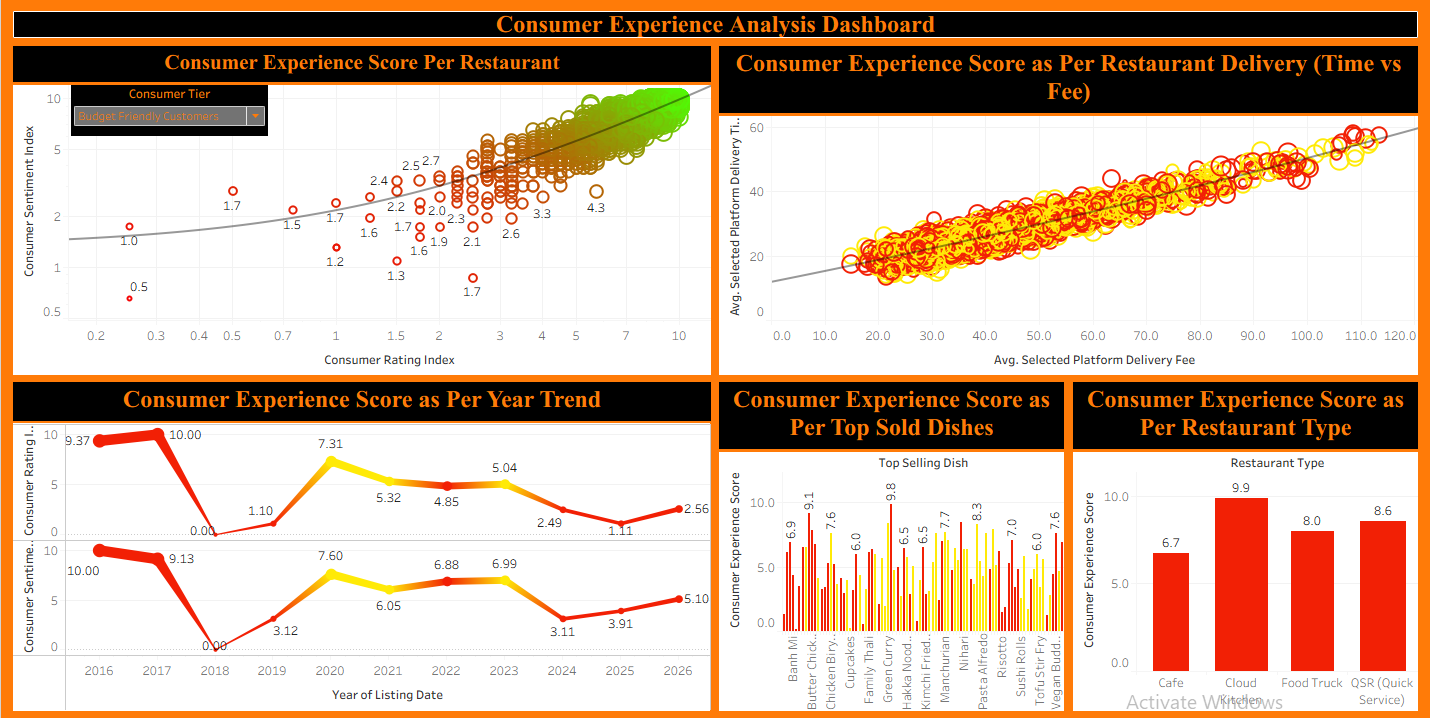

What the dashboard file says about the page in this screenshot:
{"tool":"tableau","page":{"name":"Consumer Experience Analysis Dashboard","canvas":[1000,1000],"units":"permille","ordinal":0},"visuals":[{"type":"title","box":[5.8,11.1,988.5,48.3]},{"type":"worksheet","title":"Consumer Experience Score Per Restaurant","mark":"Automatic","box":[5.8,59.4,494.2,464.8]},{"type":"worksheet","title":"Consumer Experience Score as Per Restaurant Delivery (Time vs Fee)","mark":"Automatic","rows":["Calculation_0562167627378694"],"cols":["Calculation_0811207701241856"],"box":[500,59.4,494.3,464.8]},{"type":"parameter","param":"[Parameters].[Parameter 1]","box":[49,118.8,137.9,70.4]},{"type":"worksheet","title":"Consumer Experience Score as Per Year Trend","mark":"Automatic","rows":["Calculation_0351612917886979","Calculation_0351612916355074"],"cols":["Listing Date"],"box":[5.8,524.2,494.2,464.8]},{"type":"worksheet","title":"Consumer Experience Score as Per Top Sold Dishes","mark":"Automatic","cols":["Top Selling Dish"],"box":[500,524.2,247.1,464.8]},{"type":"worksheet","title":"Consumer Experience Score as Per Restaurant Type","mark":"Automatic","cols":["Restaurant_Type"],"box":[747.1,524.2,247.2,464.8]}]}

Visuals, with their boxes on the dashboard's canvas, which has no fixed pixel size, in thousandths of its width and height (x1, y1, x2, y2). These are canvas units, not pixel positions in the 1430x718 screenshot, which may show the page scaled, cropped or inside an application window:
title: l=6, t=11, r=994, b=59
"Consumer Experience Score Per Restaurant" worksheet: l=6, t=59, r=500, b=524
"Consumer Experience Score as Per Restaurant Delivery (Time vs Fee)" worksheet: l=500, t=59, r=994, b=524
parameter: l=49, t=119, r=187, b=189
"Consumer Experience Score as Per Year Trend" worksheet: l=6, t=524, r=500, b=989
"Consumer Experience Score as Per Top Sold Dishes" worksheet: l=500, t=524, r=747, b=989
"Consumer Experience Score as Per Restaurant Type" worksheet: l=747, t=524, r=994, b=989
